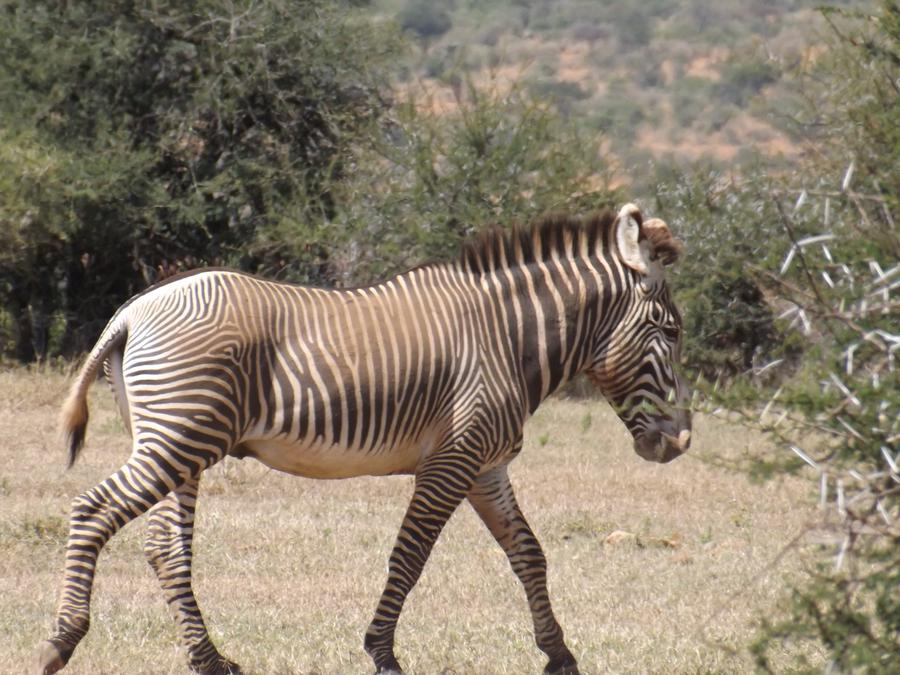zebra_grevys: (114, 252, 519, 450)
